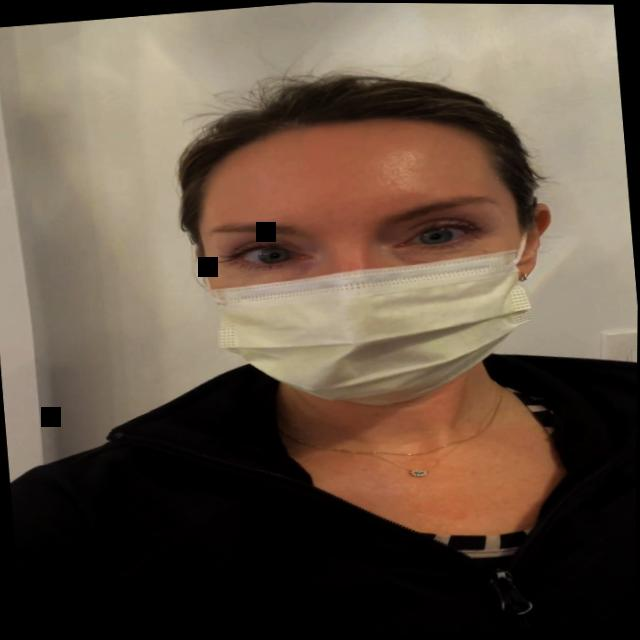Mask: (180, 101, 542, 423)
